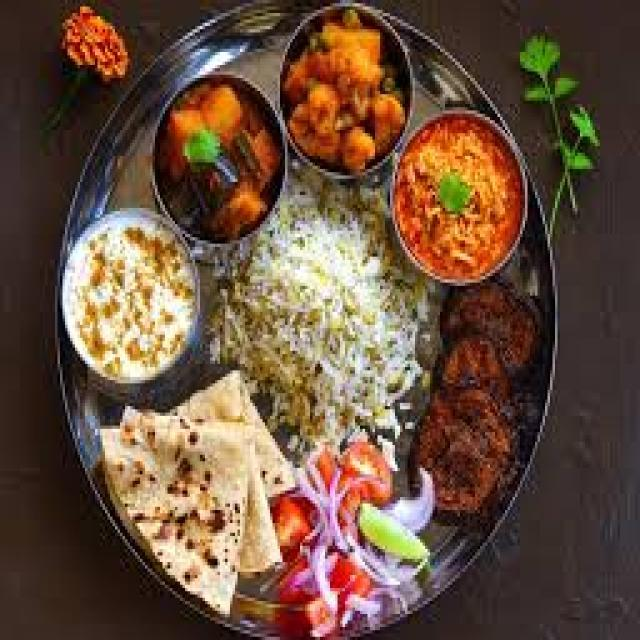raita: (61, 216, 199, 392)
rice: (202, 162, 423, 419), (64, 210, 196, 397)
roti: (98, 364, 283, 596)
sweet: (266, 492, 317, 554)
veg-fry: (143, 65, 290, 261), (390, 116, 526, 286)
